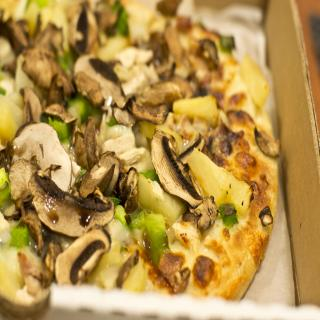Pizza: (3, 0, 304, 315)
